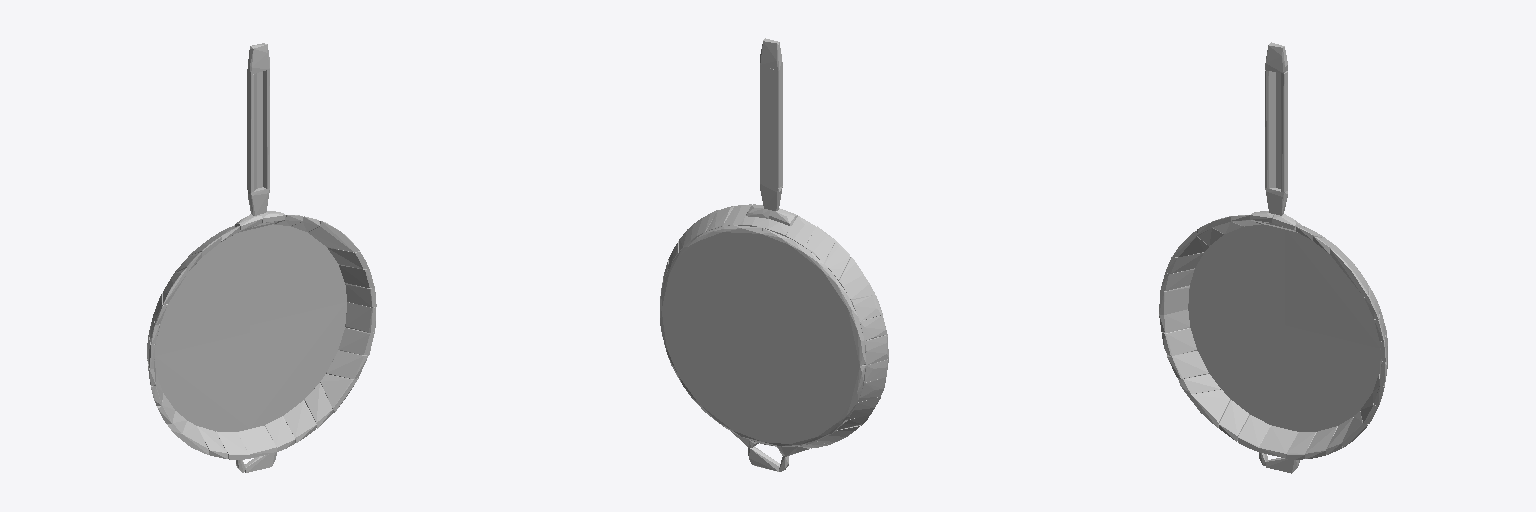
The model's file is pan_vhacd.obj.
The picture shows the model from 3 angles: view 1: azimuth 30°, elevation 25°; view 2: azimuth 150°, elevation 25°; view 3: azimuth 330°, elevation 25°; orthographic projection.
Visible parts, largest first — view 1: convex_9, convex_8, convex_10, convex_7, convex_5, convex_12, convex_15, convex_31, convex_28, convex_30, convex_37, convex_33 (+8 smaller); view 2: convex_8, convex_9, convex_10, convex_7, convex_5, convex_23, convex_11, convex_25, convex_2, convex_20, convex_24, convex_22; view 3: convex_8, convex_9, convex_7, convex_10, convex_5, convex_13, convex_12, convex_15, convex_17, convex_18, convex_41, convex_14 (+7 smaller).
Part boxes in pixels (x1,y1,x2,y2): convex_9: (250,302,346,428); convex_8: (149,225,249,355); convex_10: (250,224,346,324); convex_7: (154,333,249,431); convex_5: (247,73,256,192); convex_12: (263,69,269,188); convex_15: (237,426,276,458); convex_31: (326,350,368,378); convex_28: (283,400,316,442); convex_30: (320,374,358,413); convex_37: (308,221,359,252); convex_33: (345,302,375,332); convex_8: (761,228,865,365); convex_9: (660,309,762,443); convex_10: (660,225,761,334); convex_7: (761,342,865,446); convex_5: (770,68,782,187); convex_23: (839,257,874,300); convex_11: (764,66,770,185); convex_25: (805,226,835,262); convex_2: (760,38,782,70); convex_20: (864,335,888,365); convex_24: (824,241,850,280); convex_22: (851,295,882,320); convex_8: (1188,224,1284,331); convex_9: (1285,325,1380,431); convex_7: (1188,309,1284,428); convex_10: (1285,230,1386,347); convex_5: (1265,70,1275,188); convex_13: (1186,389,1230,427); convex_12: (1281,71,1287,191); convex_15: (1259,425,1298,458); convex_17: (1167,351,1208,378); convex_18: (1162,328,1196,355); convex_41: (1238,415,1270,451); convex_14: (1219,400,1249,441).
Size of the model in its own units: 277 by 496 by 31.42.